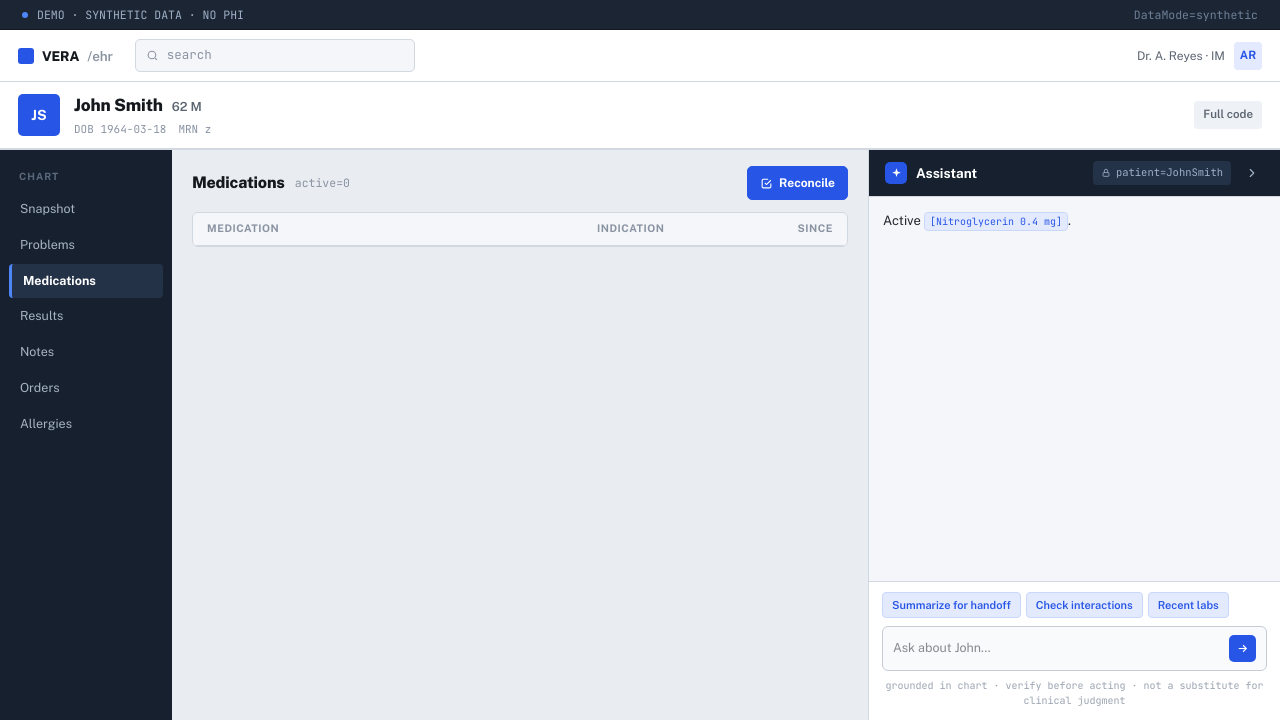
Console reference drawer › opens the reference drawer when a citation chip is clicked, and closes it
Click the button with aria-label "Open reference: Nitroglycerin 0.4 mg".
click(996, 222)  # box top-left (924, 212), bottom-right (1068, 231)
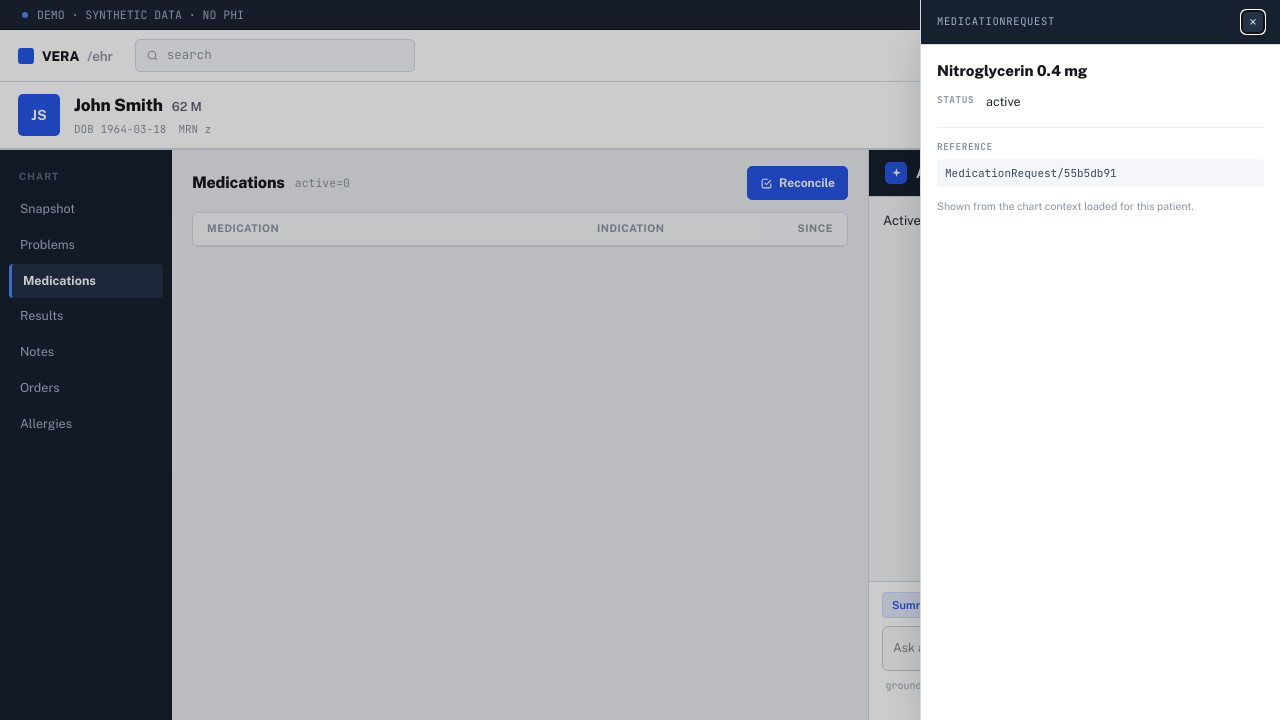
Expected: the dialog is shown
Expected: the text "MedicationRequest/55b5db91" is shown, top-left (937, 158), bottom-right (1264, 187)
Click the button named "Close reference".
click(1253, 22)  # box top-left (1242, 11), bottom-right (1264, 33)
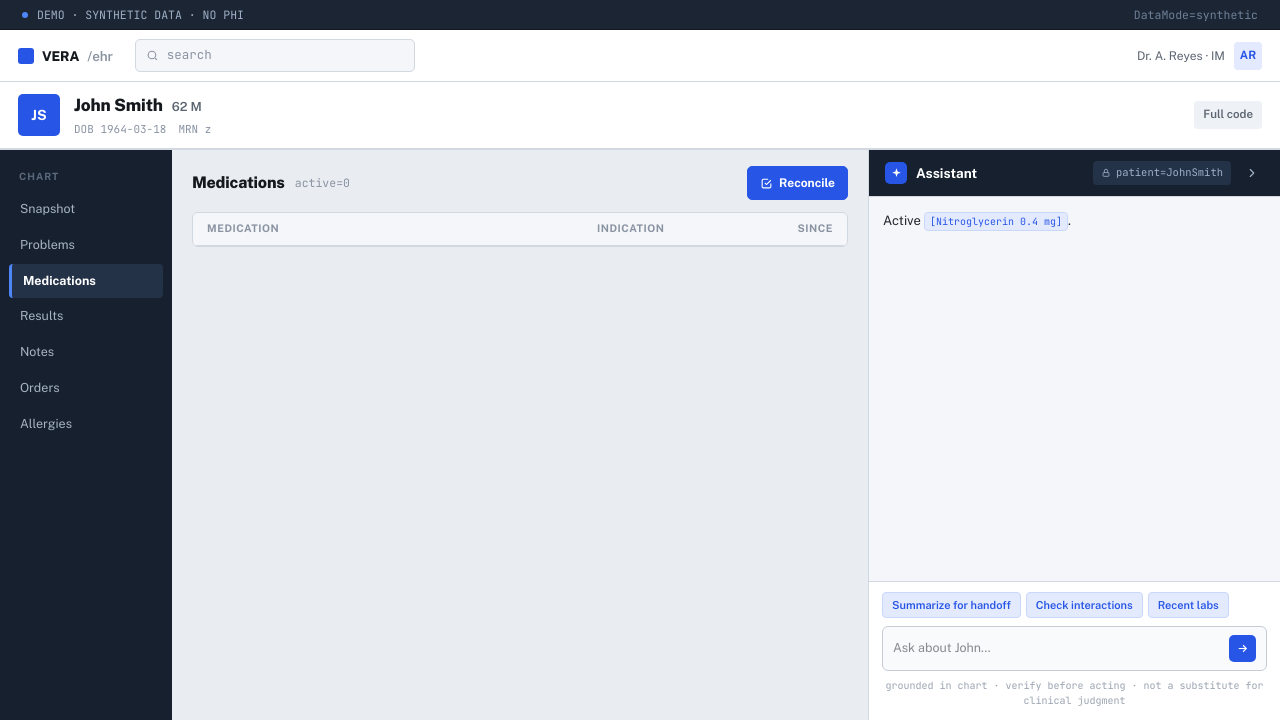
Expected: the dialog is gone
